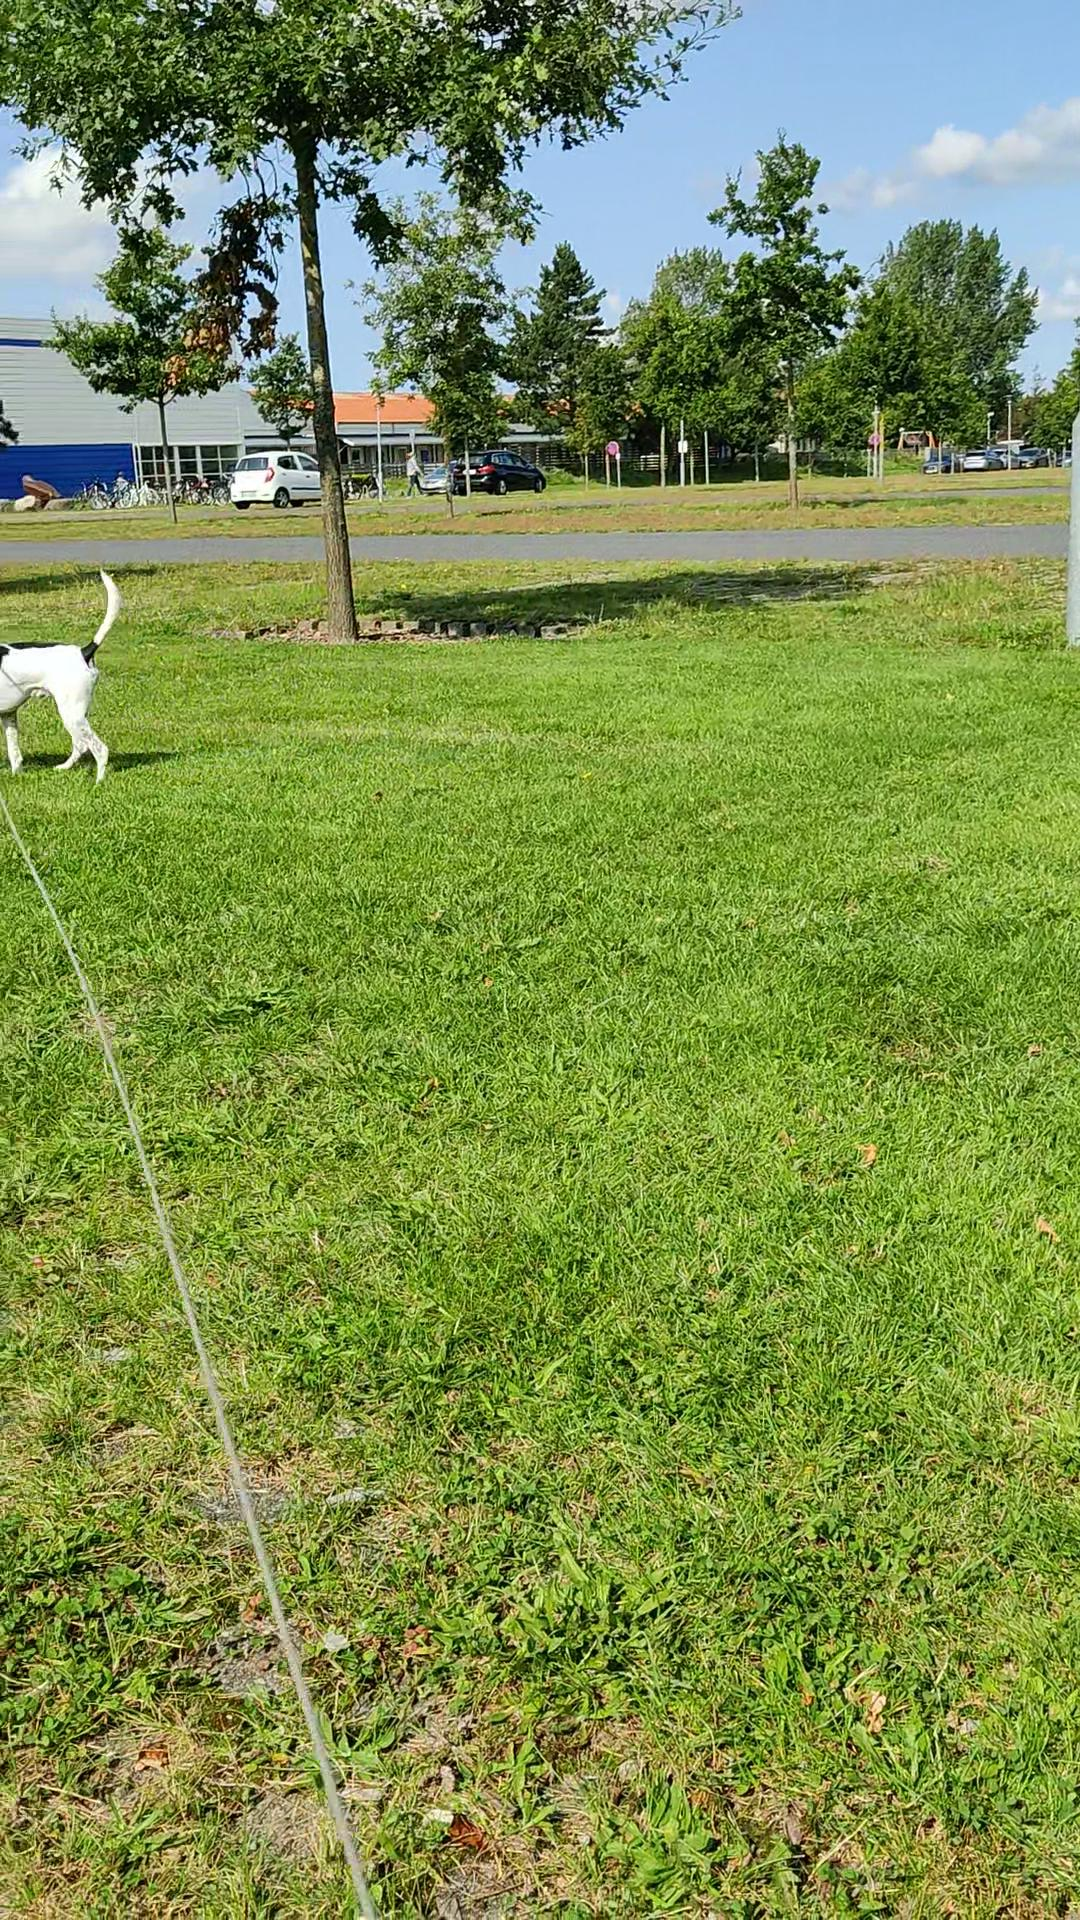Dog: (0, 558, 127, 789)
